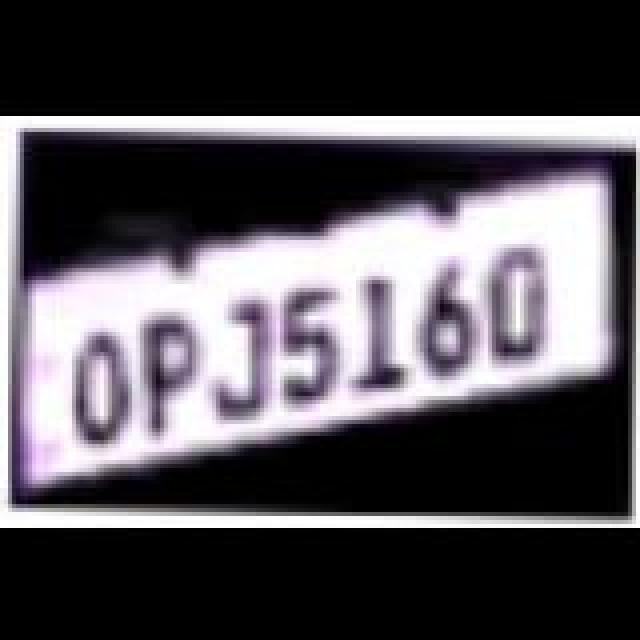5: (272, 280, 352, 408)
6: (410, 252, 486, 380)
D: (476, 242, 556, 366)
I: (350, 270, 418, 394)
J: (206, 290, 282, 422)
O: (60, 326, 140, 450)
P: (132, 306, 212, 438)
